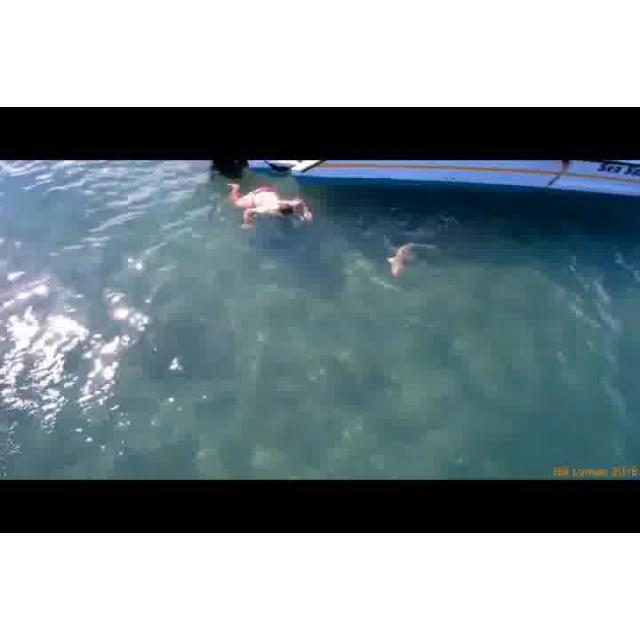human: (230, 184, 315, 231)
